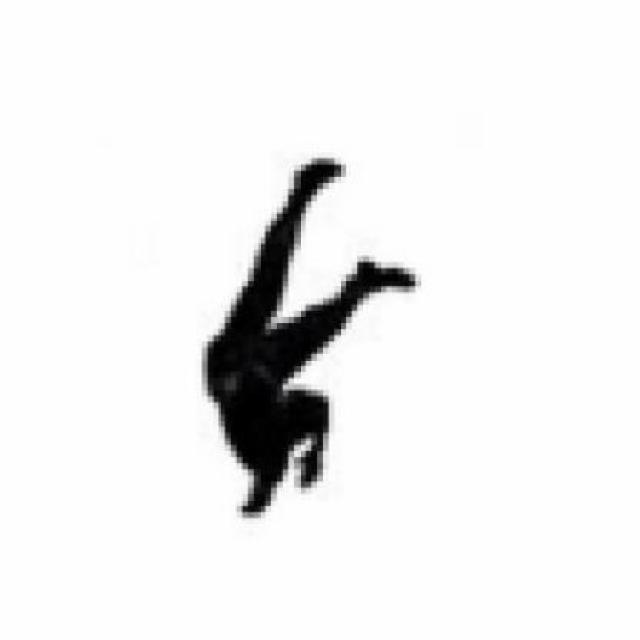fall: (202, 147, 422, 524)
